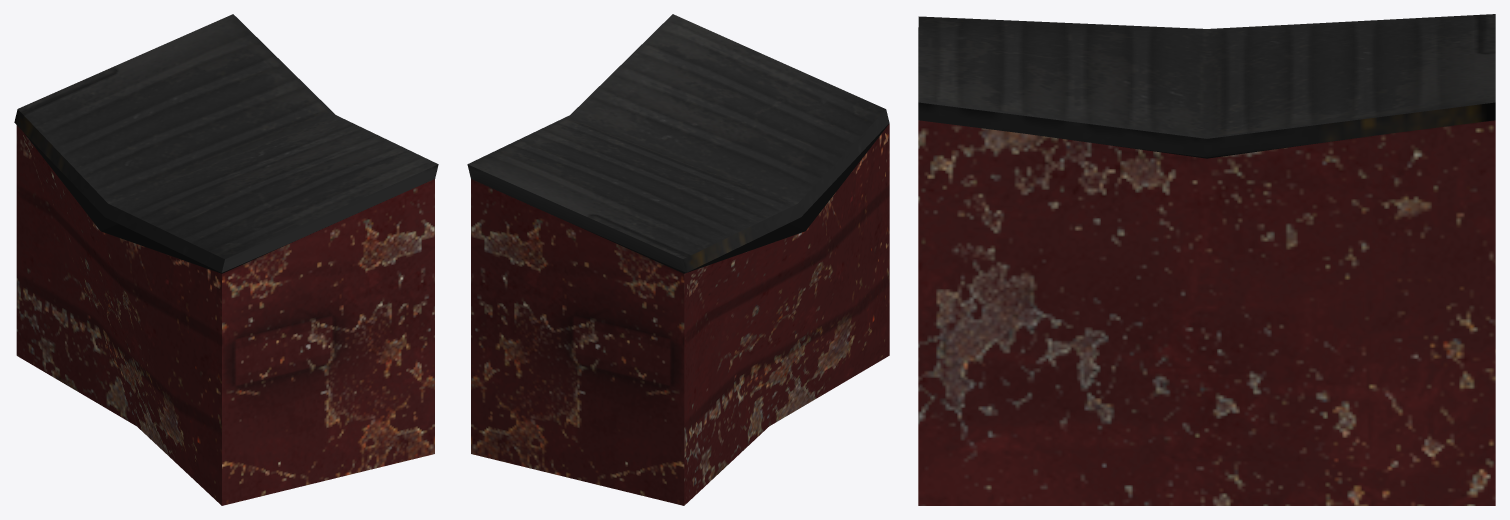
The model's file is props2_3.fbx.
3 renders of one model, left to right at view 1: azimuth 30°, elevation 25°; view 2: azimuth 150°, elevation 25°; view 3: azimuth 270°, elevation 25°, orthographic. The views are drawn at different scales.
Parts seen in each view (by area): view 1: Dino_props_2_low_003; view 2: Dino_props_2_low_003; view 3: Dino_props_2_low_003.
Part boxes in pixels (x1,y1,x2,y2): Dino_props_2_low_003: (14,14,438,505); Dino_props_2_low_003: (467,14,889,505); Dino_props_2_low_003: (918,14,1495,505).
Size of the model in its own units: 1.17 by 1.37 by 1.77.
